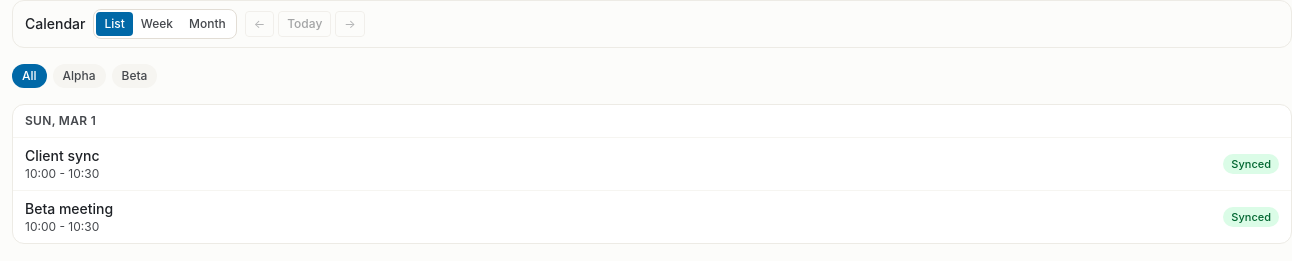
CalendarView › filters events by selected projects
Expected: the text "Client sync" is shown, [25,147,100,164]
Expected: the text "Beta meeting" is shown, [25,200,113,217]
# Click project filter button for Alpha
What coordinates should you click on to do the following:
click the button "Alpha"
I would click on:
 (79, 76)
Its box is [53,64,106,88].
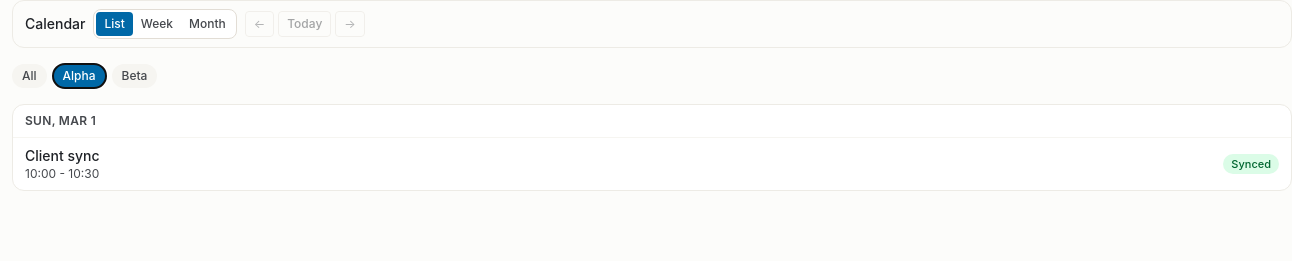
Expected: the text "Client sync" is shown, [25,147,100,164]
Expected: the button "Beta meeting" is gone
